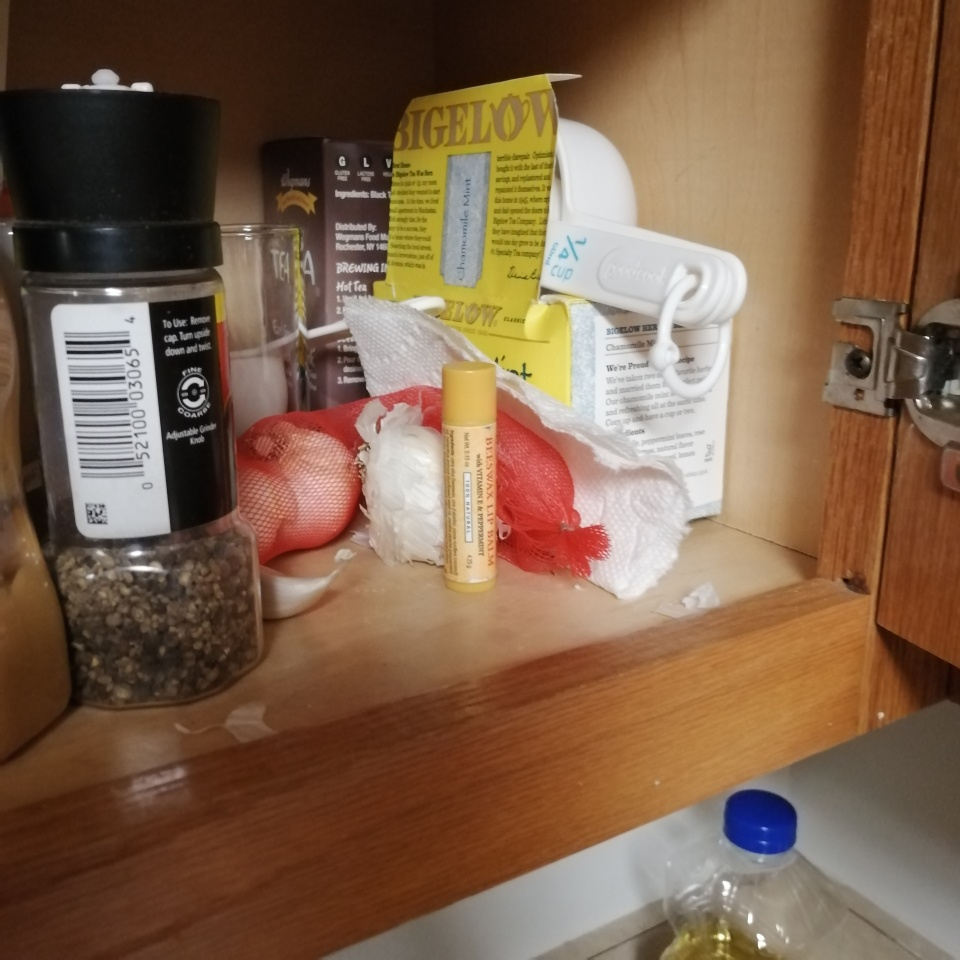chapstick: (443, 362, 498, 591)
